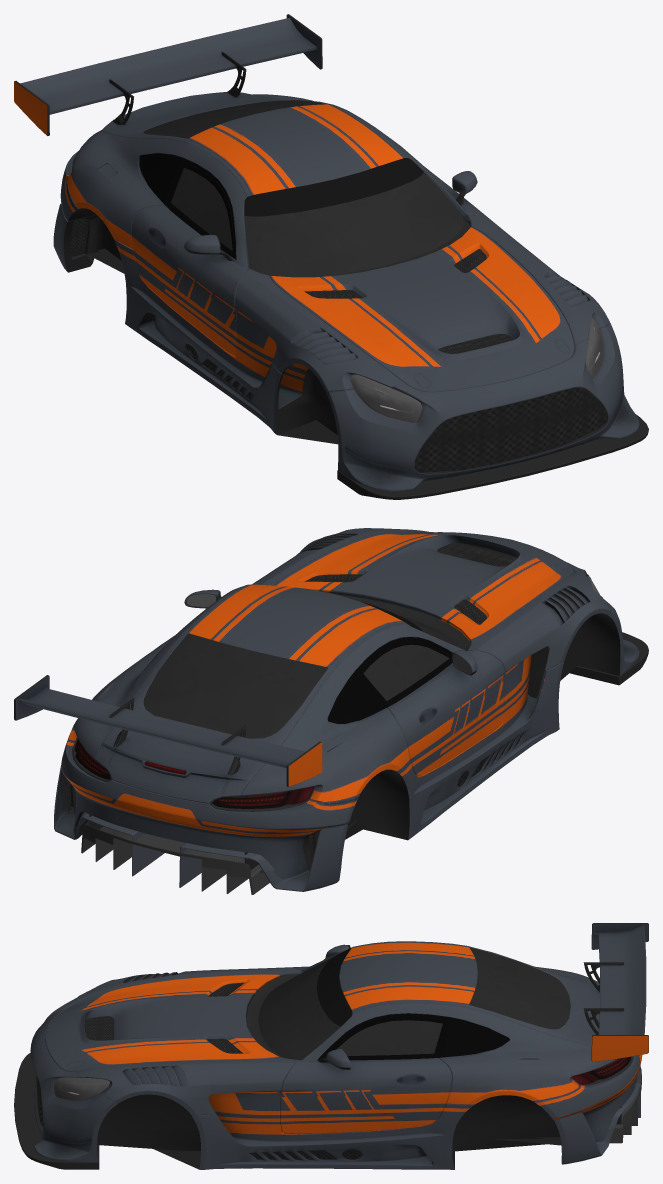
The model's file is New Car.fbx.
The picture shows the model from 3 angles, top to bottom: view 1: azimuth 30°, elevation 25°; view 2: azimuth 150°, elevation 25°; view 3: azimuth 270°, elevation 25°; orthographic projection. The views are drawn at different scales.
Visible parts, largest first — view 1: car_2; view 2: car_2; view 3: car_2.
Part boxes in pixels (left/top/right/bottom): car_2: left=14, top=14, right=648, bottom=499; car_2: left=14, top=528, right=648, bottom=894; car_2: left=14, top=923, right=648, bottom=1169.
Size of the model in its own units: 278 by 159 by 629.
